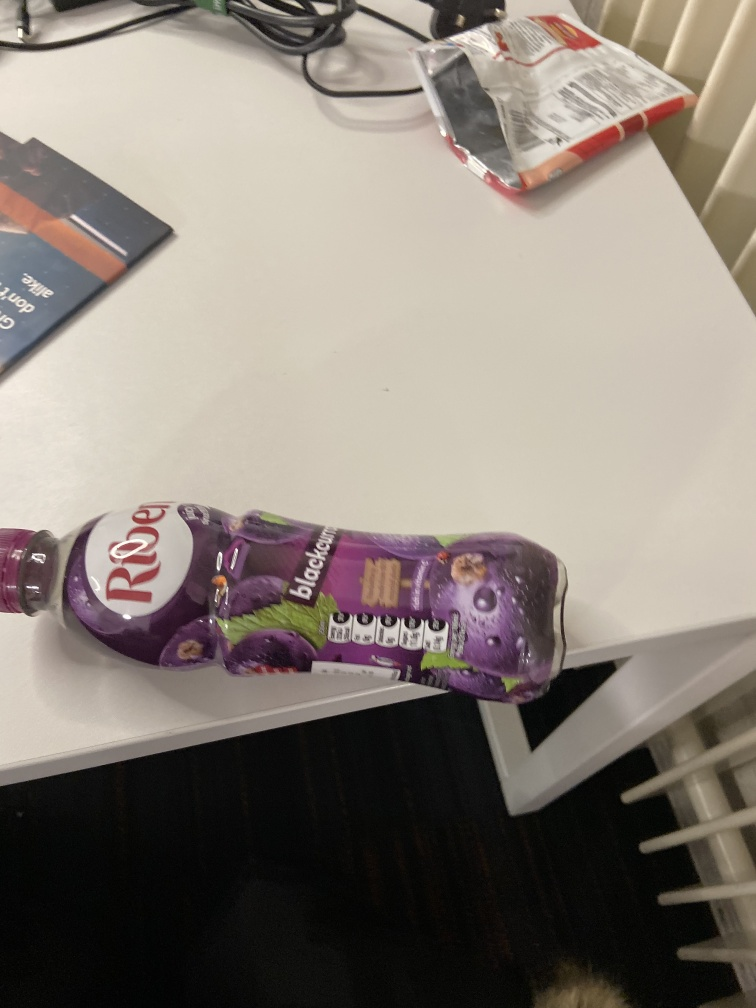bottle_purple: (2, 498, 572, 708)
